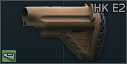HK417 E2 buttstock: (0, 0, 127, 64)
